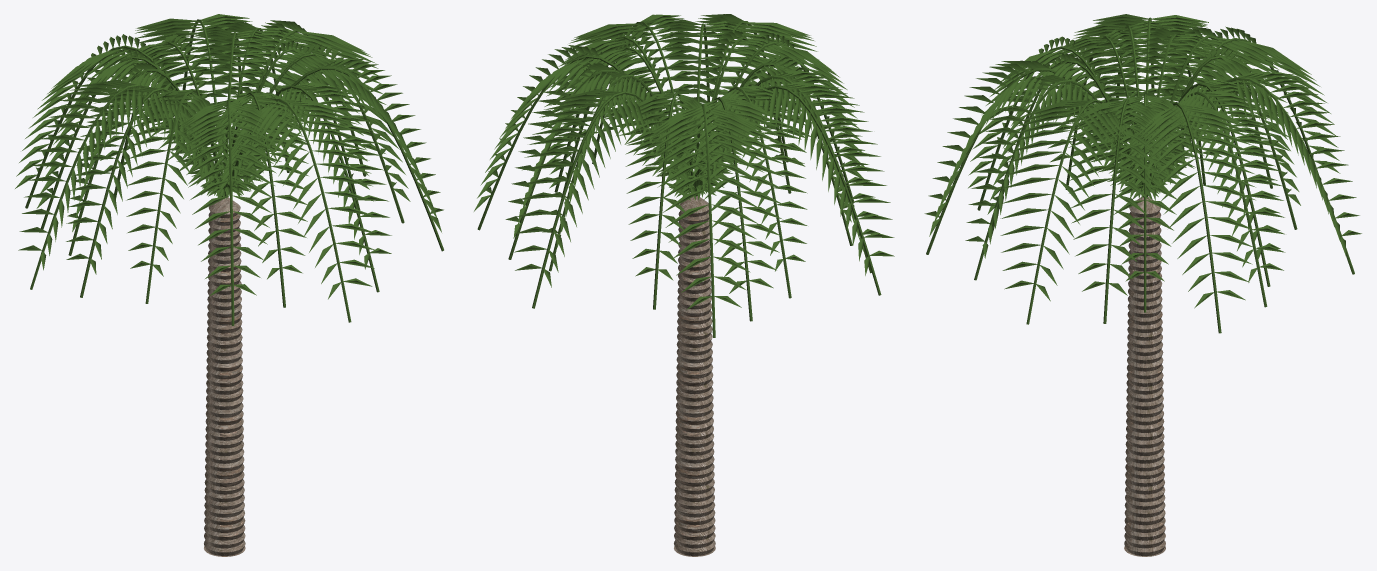
File: palmera_jardin.glb
The picture shows the model from 3 angles, left to right: view 1: azimuth 30°, elevation 25°; view 2: azimuth 150°, elevation 25°; view 3: azimuth 270°, elevation 25°; orthographic projection.
Visible parts, largest first — view 1: palmera_jardin; view 2: palmera_jardin; view 3: palmera_jardin.
Boxes of the visible parts, x1,y1,x2,y2 form: palmera_jardin: [15, 14, 443, 556]; palmera_jardin: [474, 14, 894, 556]; palmera_jardin: [924, 14, 1361, 556].
Bounding box in the file's own units: 3.52 × 4.31 × 3.54.
2 materials, 1 textured.
